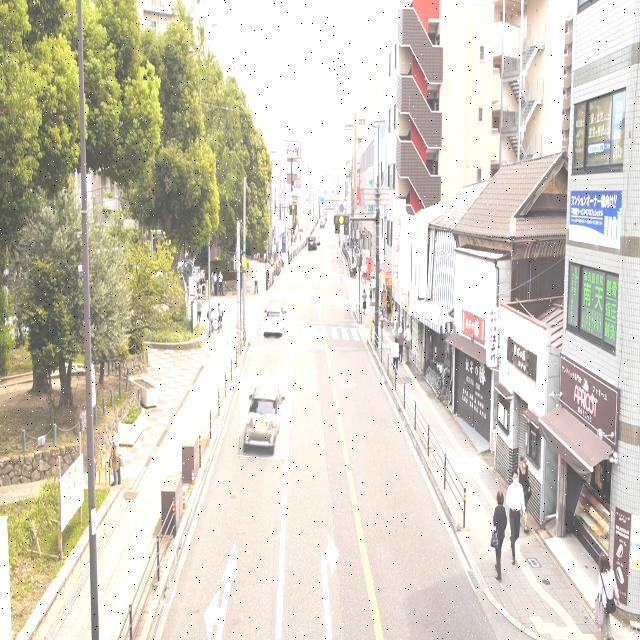Car: (240, 377, 286, 459), (260, 299, 287, 343), (306, 232, 317, 254)
